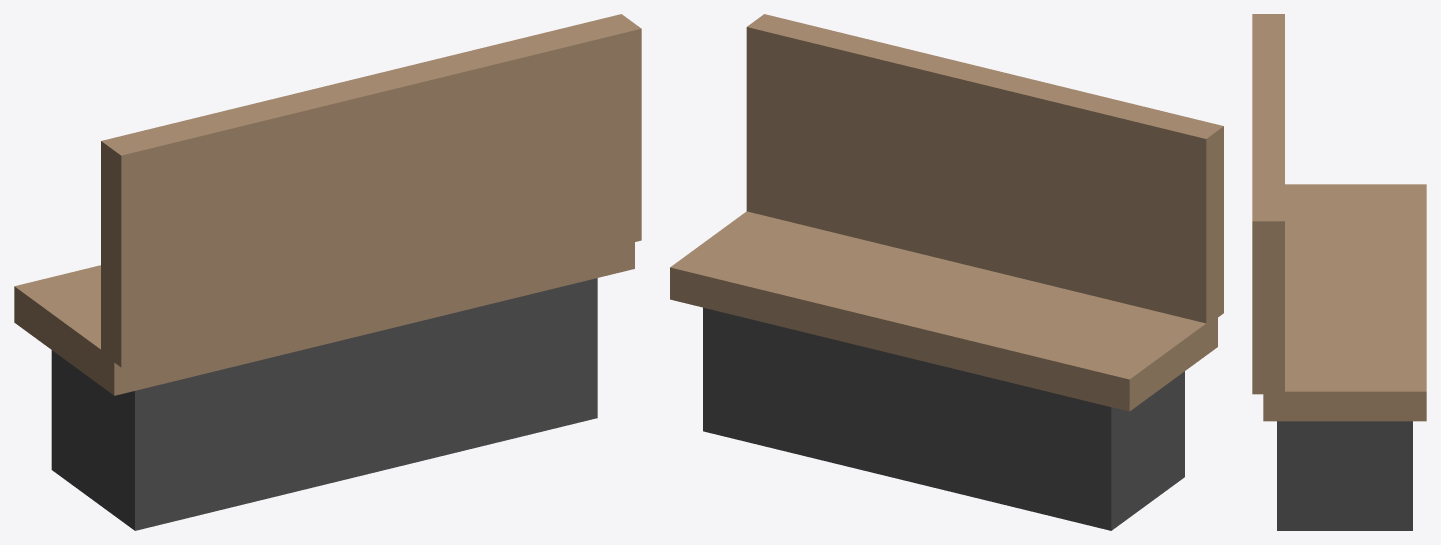
The model's file is bench.glb.
The picture shows the model from 3 angles, left to right: view 1: azimuth 30°, elevation 25°; view 2: azimuth 150°, elevation 25°; view 3: azimuth 270°, elevation 25°; orthographic projection. The views are drawn at different scales.
Visible parts, largest first — view 1: bench_back, bench_legs, bench_seat; view 2: bench_back, bench_legs, bench_seat; view 3: bench_seat, bench_legs, bench_back.
Part boxes in pixels (left/top/right/bottom): bench_back: left=101, top=14, right=641, bottom=367; bench_legs: left=51, top=278, right=597, bottom=530; bench_seat: left=14, top=242, right=634, bottom=395; bench_back: left=746, top=14, right=1223, bottom=325; bench_legs: left=703, top=307, right=1184, bottom=530; bench_seat: left=670, top=211, right=1217, bottom=411; bench_seat: left=1263, top=184, right=1426, bottom=421; bench_legs: left=1277, top=421, right=1412, bottom=530; bench_back: left=1252, top=14, right=1284, bottom=394.
Size of the model in its own units: 1.8 by 1.3 by 0.6399.
